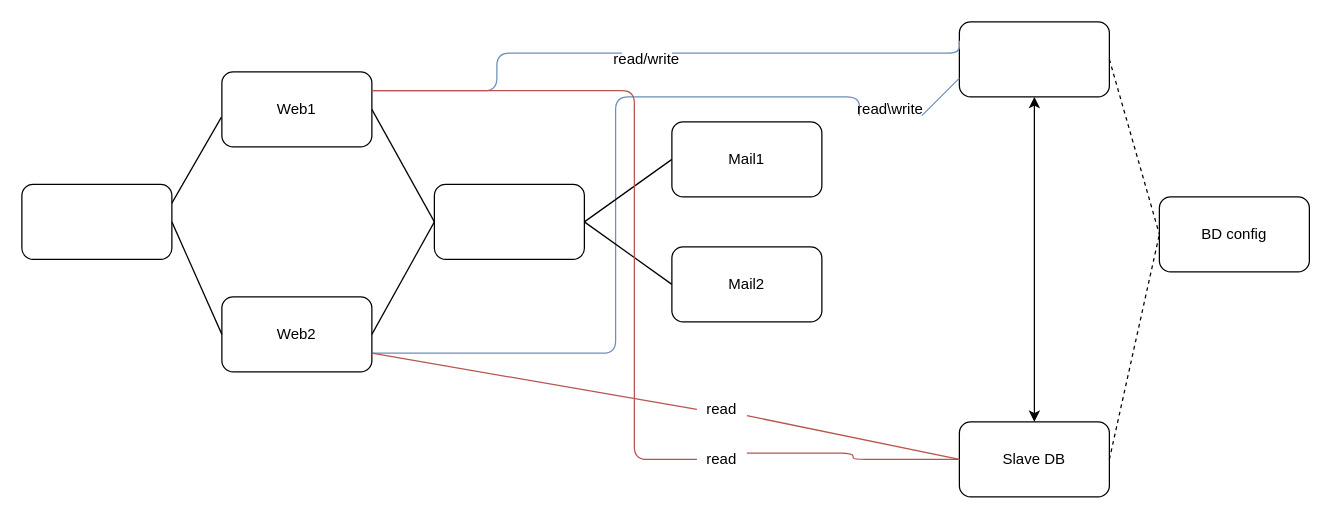
The diagram is 1331 pixels wide and 519 high, and some of its shapes have lost their labels. The centre of each missing label's shape, as x and y in pixels:
"Haproxy Mail" belongs at (x=508, y=221).
"Haproxy WEB" belongs at (x=96, y=221).
"Master DB" belongs at (x=1033, y=59).
